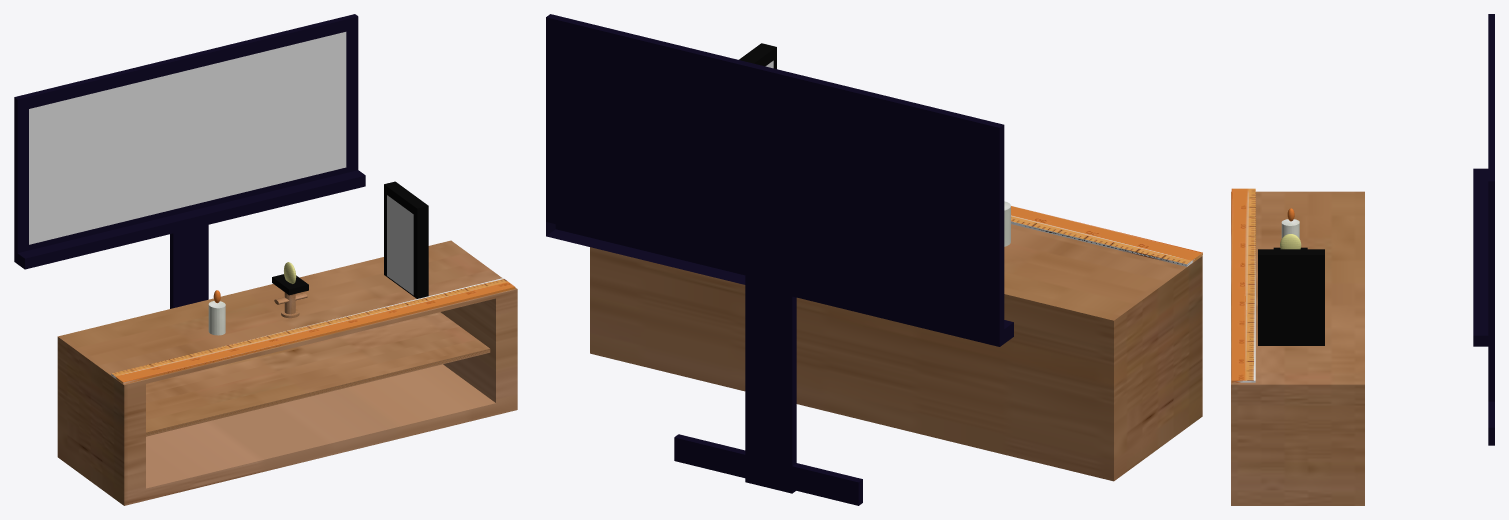
Rendered from convex_lens_size.gltf.
3 renders of one model, left to right at view 1: azimuth 30°, elevation 25°; view 2: azimuth 150°, elevation 25°; view 3: azimuth 270°, elevation 25°, orthographic. The views are drawn at different scales.
Visible parts, largest first — view 1: Table, tvscreen, tv, rack, scale, board, sheet, candle; view 2: tv, Table, scale; view 3: Table, board, tv, scale.
Part boxes in pixels (box(x1,y1,x2,y2)): Table: box(57, 240, 517, 505); tvscreen: box(29, 32, 346, 244); tv: box(14, 14, 365, 308); rack: box(146, 312, 490, 436); scale: box(111, 278, 515, 384); board: box(384, 181, 428, 298); sheet: box(387, 195, 413, 295); candle: box(208, 301, 225, 335); tv: box(546, 14, 1013, 505); Table: box(590, 224, 1202, 481); scale: box(1011, 206, 1202, 266); Table: box(1231, 191, 1364, 505); board: box(1258, 249, 1324, 345); tv: box(1473, 14, 1494, 445); scale: box(1231, 188, 1255, 382).
Size of the model in its own units: 13.66 by 10.36 by 7.88.
10 materials, 5 textured.
